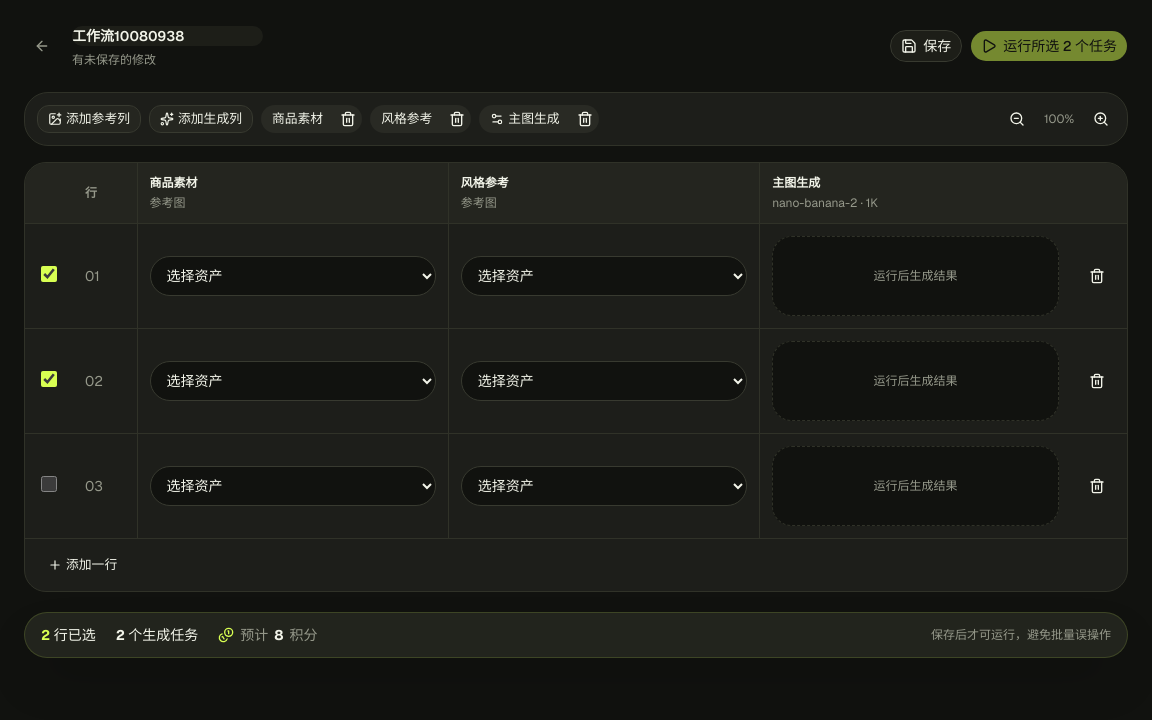
Test: workflow editor › requires a save before selected rows can run
The width and height of the screenshot is (1152, 720).
Expected: the button "运行所选 2 个任务" is disabled, [970, 30, 1128, 62]
Click the button "保存". click: (926, 46)
box: [890, 30, 962, 62]
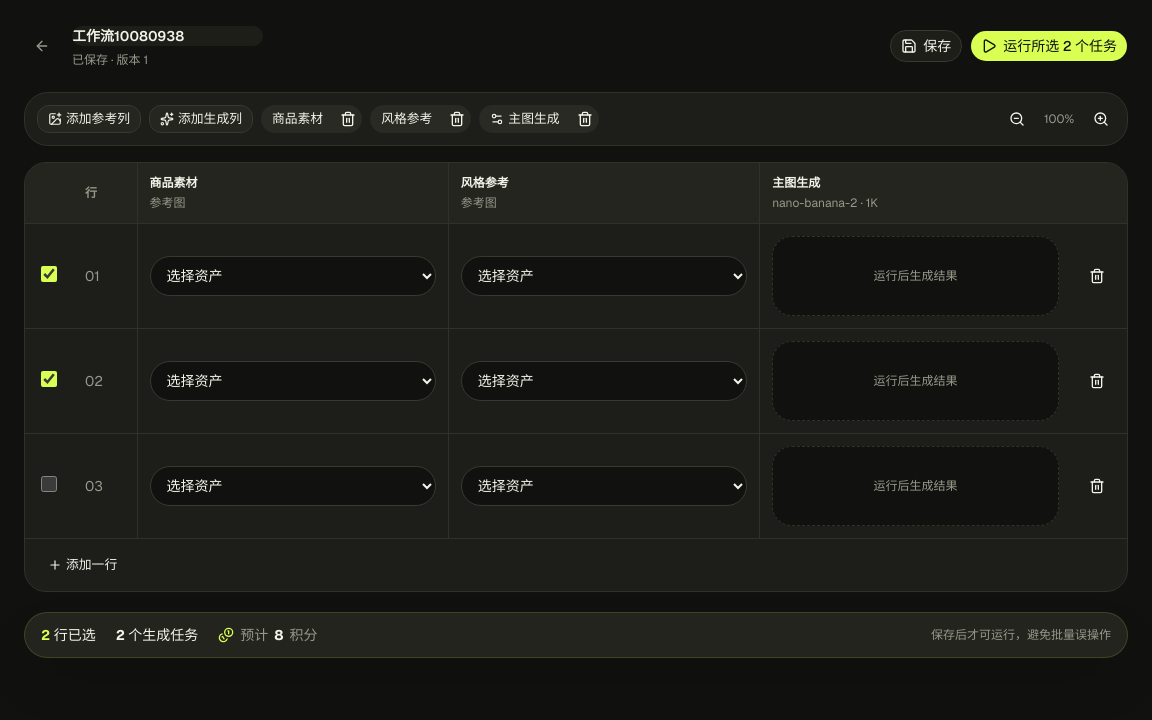
Expected: the text "已保存 · 版本 1" is shown, [72, 52, 148, 68]
Expected: the button "运行所选 2 个任务" is enabled, [970, 30, 1128, 62]
